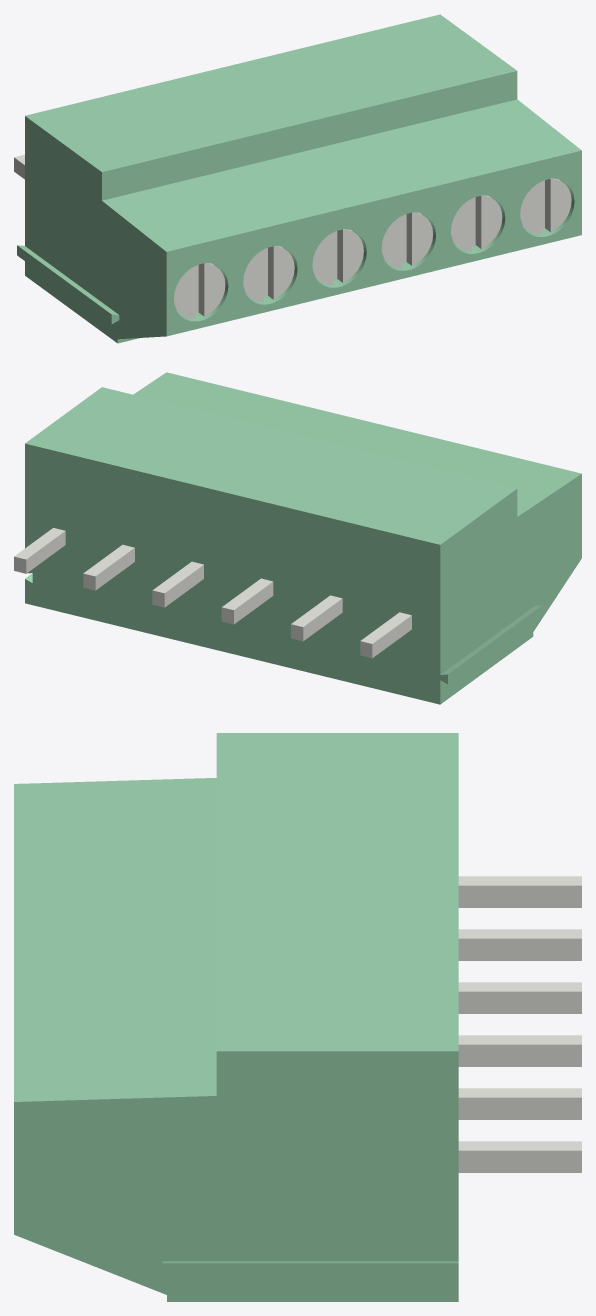
Rendered from TerminalBlock_Phoenix_MKDS-3-6-5.08_1x06_P5.08mm_Horizontal.glb.
3 renders of one model, top to bottom at view 1: azimuth 30°, elevation 25°; view 2: azimuth 150°, elevation 25°; view 3: azimuth 270°, elevation 25°, orthographic. The views are drawn at different scales.
Parts seen in each view (by area): view 1: Shape_IndexedFaceSet.005, Shape_IndexedFaceSet.003, Shape_IndexedFaceSet.002, Shape_IndexedFaceSet, Shape_IndexedFaceSet.004, Shape_IndexedFaceSet.019, Shape_IndexedFaceSet.249, Shape_IndexedFaceSet.254, Shape_IndexedFaceSet.244, Shape_IndexedFaceSet.259, Shape_IndexedFaceSet.243, Shape_IndexedFaceSet.234 (+7 smaller); view 2: Shape_IndexedFaceSet.006, Shape_IndexedFaceSet.005, Shape_IndexedFaceSet, Shape_IndexedFaceSet.003, Shape_IndexedFaceSet.019, Shape_IndexedFaceSet.024, Shape_IndexedFaceSet.040, Shape_IndexedFaceSet.044, Shape_IndexedFaceSet.028, Shape_IndexedFaceSet.032, Shape_IndexedFaceSet.036, Shape_IndexedFaceSet.007 (+6 smaller); view 3: Shape_IndexedFaceSet.012, Shape_IndexedFaceSet.005, Shape_IndexedFaceSet.003, Shape_IndexedFaceSet.026, Shape_IndexedFaceSet.030, Shape_IndexedFaceSet.034, Shape_IndexedFaceSet.038, Shape_IndexedFaceSet.042, Shape_IndexedFaceSet.046, Shape_IndexedFaceSet.021, Shape_IndexedFaceSet.025, Shape_IndexedFaceSet.029 (+5 smaller).
Part boxes in pixels (x1,y1,x2,y2): Shape_IndexedFaceSet.005: [25, 14, 516, 171]; Shape_IndexedFaceSet.003: [102, 99, 581, 251]; Shape_IndexedFaceSet.002: [166, 150, 581, 336]; Shape_IndexedFaceSet: [25, 116, 166, 342]; Shape_IndexedFaceSet.004: [102, 71, 517, 200]; Shape_IndexedFaceSet.019: [17, 245, 111, 324]; Shape_IndexedFaceSet.249: [273, 246, 294, 299]; Shape_IndexedFaceSet.254: [550, 179, 571, 231]; Shape_IndexedFaceSet.244: [204, 263, 225, 316]; Shape_IndexedFaceSet.259: [481, 196, 502, 248]; Shape_IndexedFaceSet.243: [312, 233, 333, 285]; Shape_IndexedFaceSet.234: [412, 212, 433, 265]; Shape_IndexedFaceSet.006: [25, 443, 447, 704]; Shape_IndexedFaceSet.005: [25, 387, 516, 544]; Shape_IndexedFaceSet: [440, 474, 581, 704]; Shape_IndexedFaceSet.003: [133, 372, 581, 516]; Shape_IndexedFaceSet.019: [448, 605, 542, 684]; Shape_IndexedFaceSet.024: [164, 565, 203, 607]; Shape_IndexedFaceSet.040: [26, 531, 65, 573]; Shape_IndexedFaceSet.044: [95, 548, 134, 590]; Shape_IndexedFaceSet.028: [234, 582, 273, 624]; Shape_IndexedFaceSet.032: [303, 598, 342, 640]; Shape_IndexedFaceSet.036: [372, 615, 411, 657]; Shape_IndexedFaceSet.007: [441, 605, 541, 674]; Shape_IndexedFaceSet.012: [14, 1051, 458, 1301]; Shape_IndexedFaceSet.005: [216, 733, 458, 1051]; Shape_IndexedFaceSet.003: [14, 778, 216, 1101]; Shape_IndexedFaceSet.026: [458, 1044, 581, 1066]; Shape_IndexedFaceSet.030: [458, 991, 581, 1013]; Shape_IndexedFaceSet.034: [458, 938, 581, 960]; Shape_IndexedFaceSet.038: [458, 885, 581, 907]; Shape_IndexedFaceSet.042: [458, 1150, 581, 1172]; Shape_IndexedFaceSet.046: [458, 1097, 581, 1119]; Shape_IndexedFaceSet.021: [162, 1255, 458, 1261]; Shape_IndexedFaceSet.025: [458, 1035, 581, 1044]; Shape_IndexedFaceSet.029: [458, 982, 581, 991].
Size of the model in its own units: 12.22 by 4.41 by 9.06.
